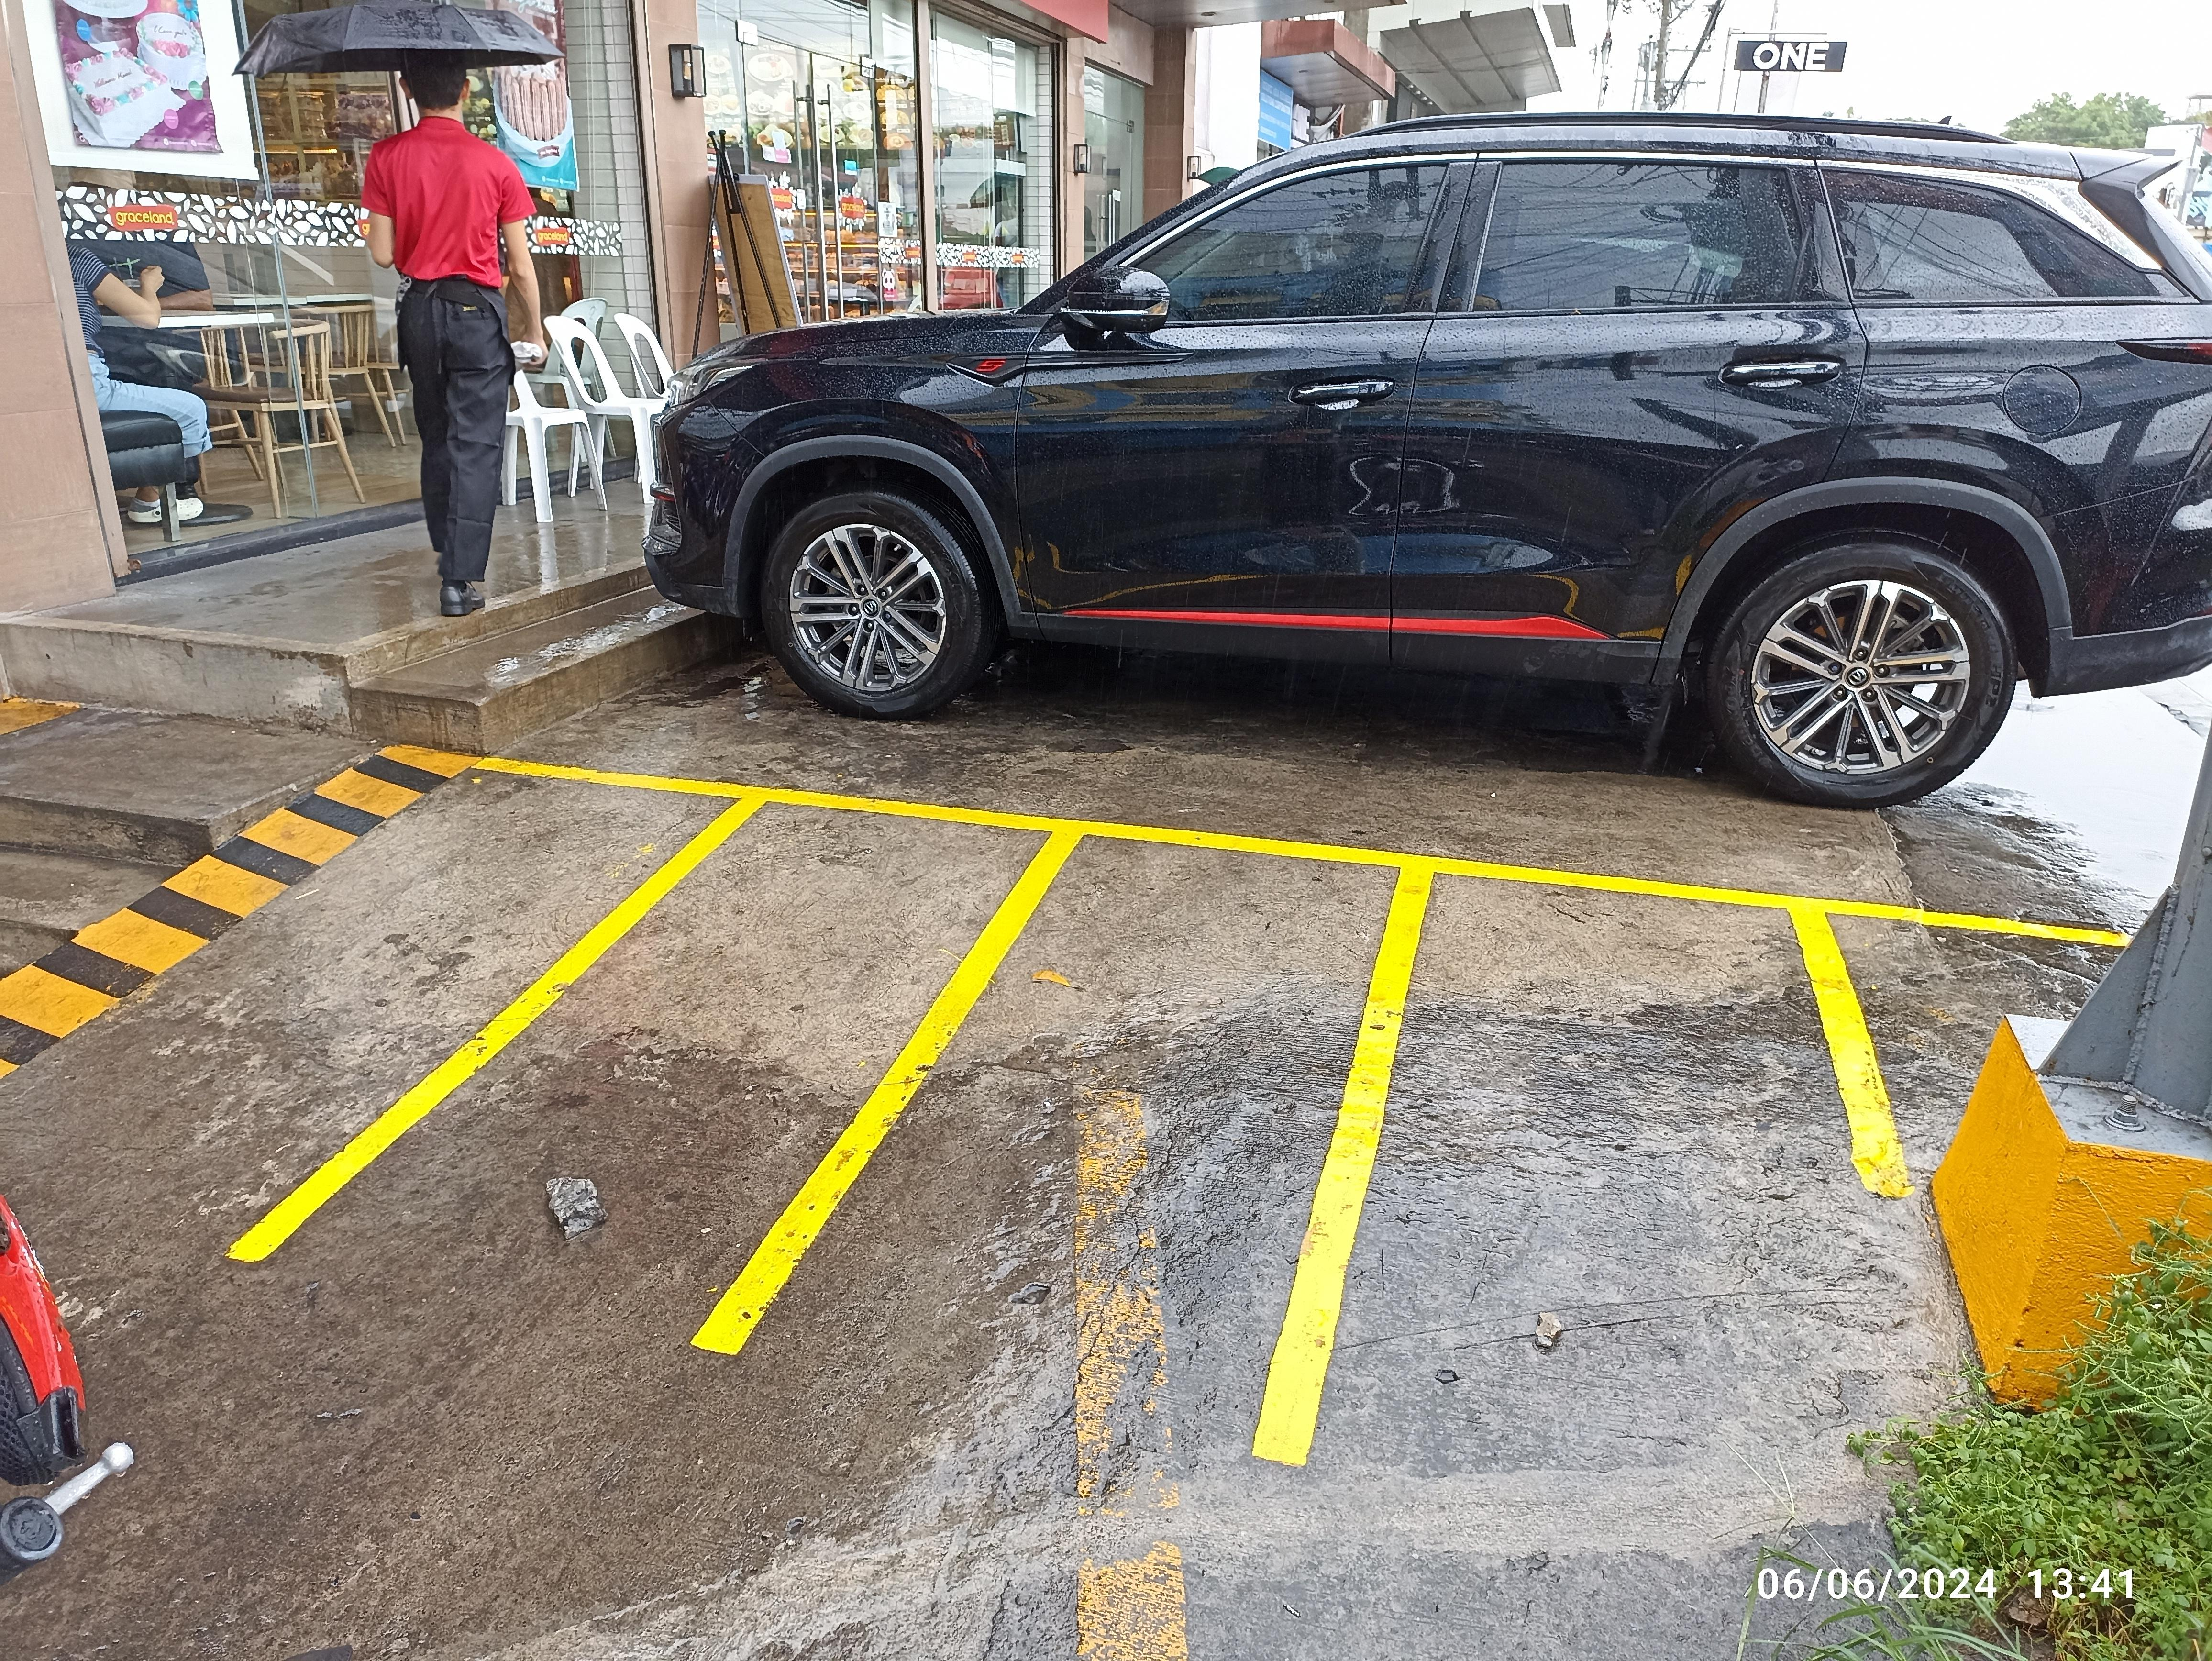vacant: (228, 778, 1108, 1369), (689, 817, 1444, 1469), (1249, 854, 1948, 1513)
